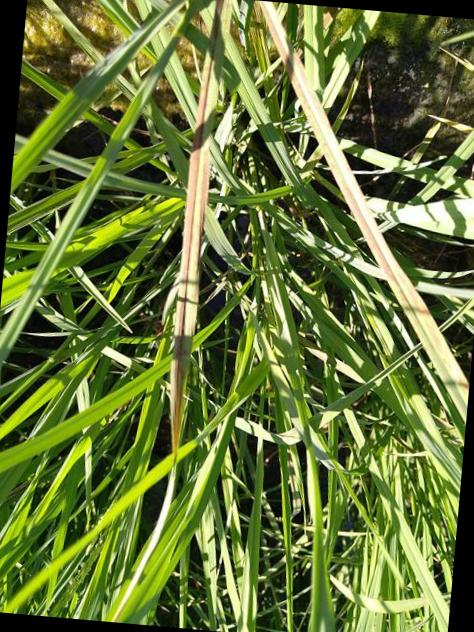Leaf Streak: (256, 0, 469, 411), (170, 0, 226, 452)
